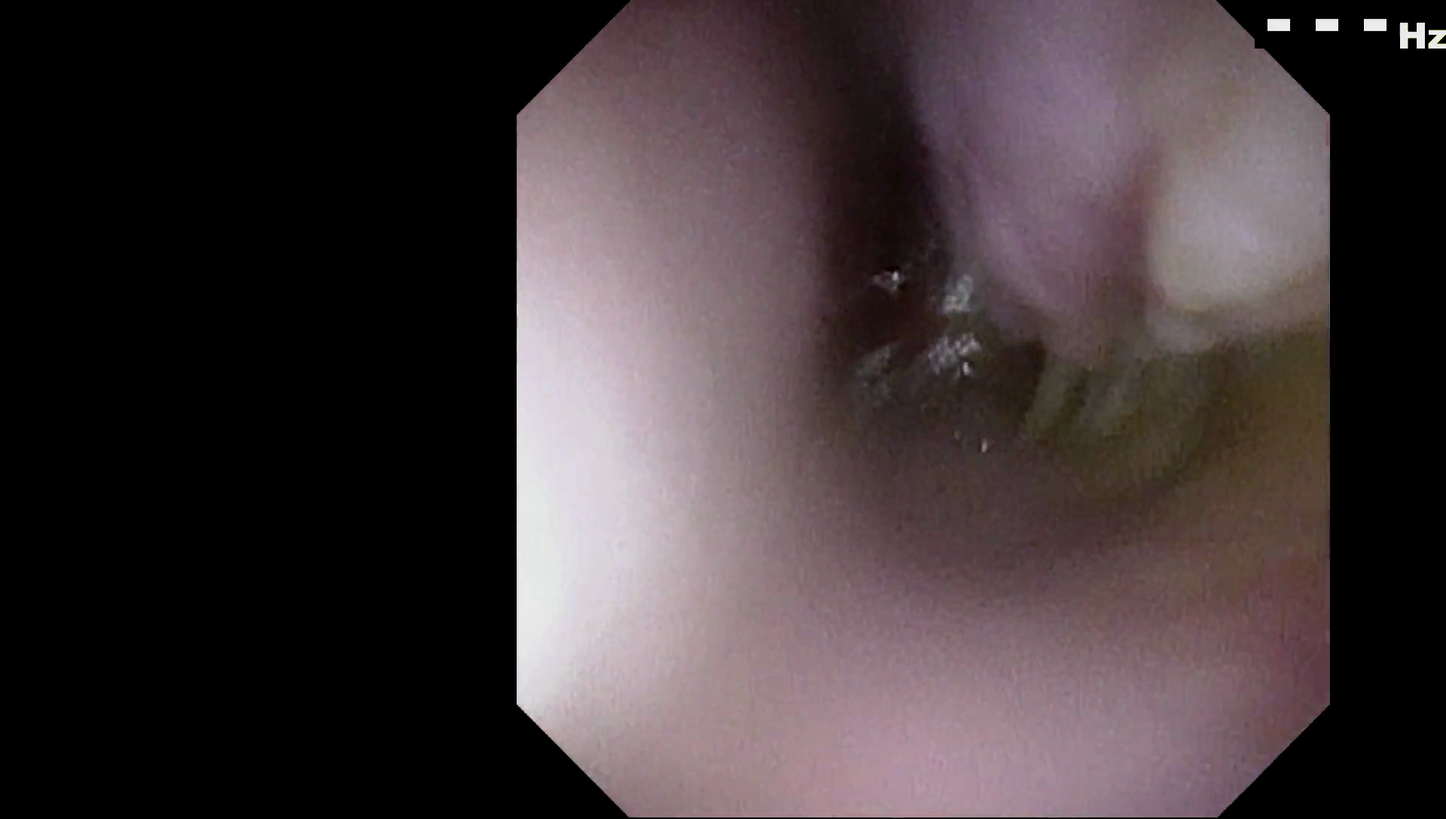close_wall: (518, 124, 843, 696), (649, 514, 1220, 811)
next: (776, 50, 970, 372)
